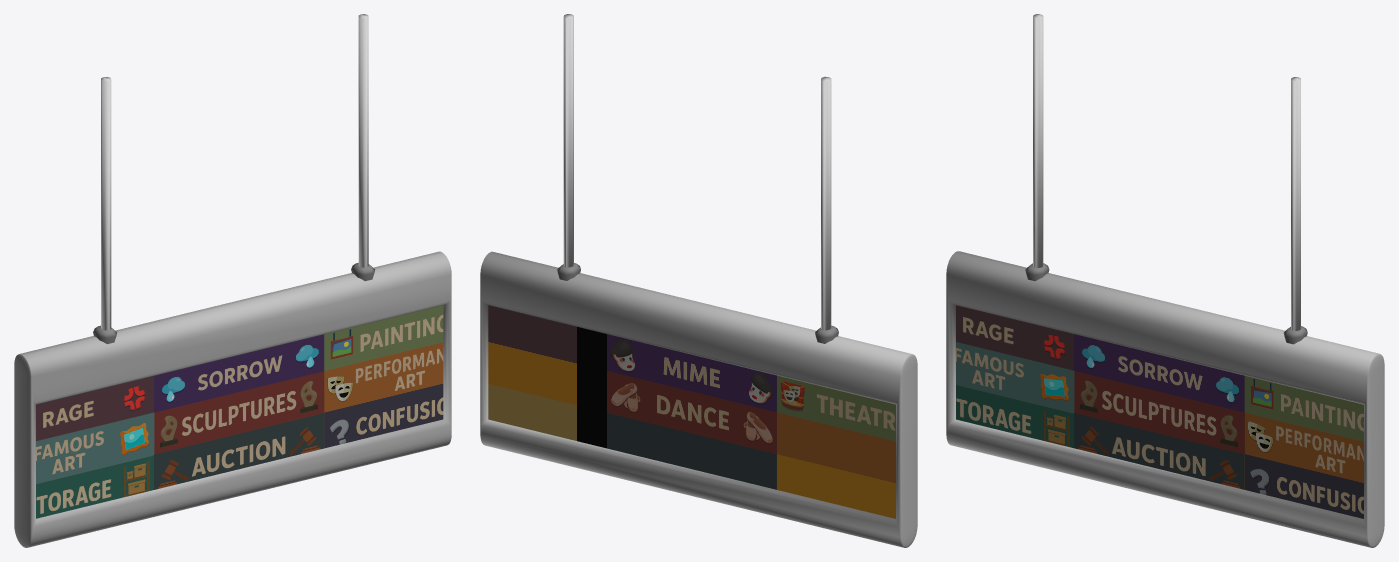
Rendered from Hanging_Sign_Small.fbx.
3 views of the same model, side by side, from view 1: azimuth 30°, elevation 25°; view 2: azimuth 150°, elevation 25°; view 3: azimuth 330°, elevation 25° (orthographic).
Parts seen in each view (by area): view 1: Hanging_Sign_Small_LOD0; view 2: Hanging_Sign_Small_LOD0; view 3: Hanging_Sign_Small_LOD0.
Part boxes in pixels (x1,y1,x2,y2): Hanging_Sign_Small_LOD0: (14, 14, 451, 547); Hanging_Sign_Small_LOD0: (480, 14, 917, 547); Hanging_Sign_Small_LOD0: (946, 14, 1384, 547).
Size of what is drawn, in the model's own units: 1.41 by 0.1001 by 1.43.
